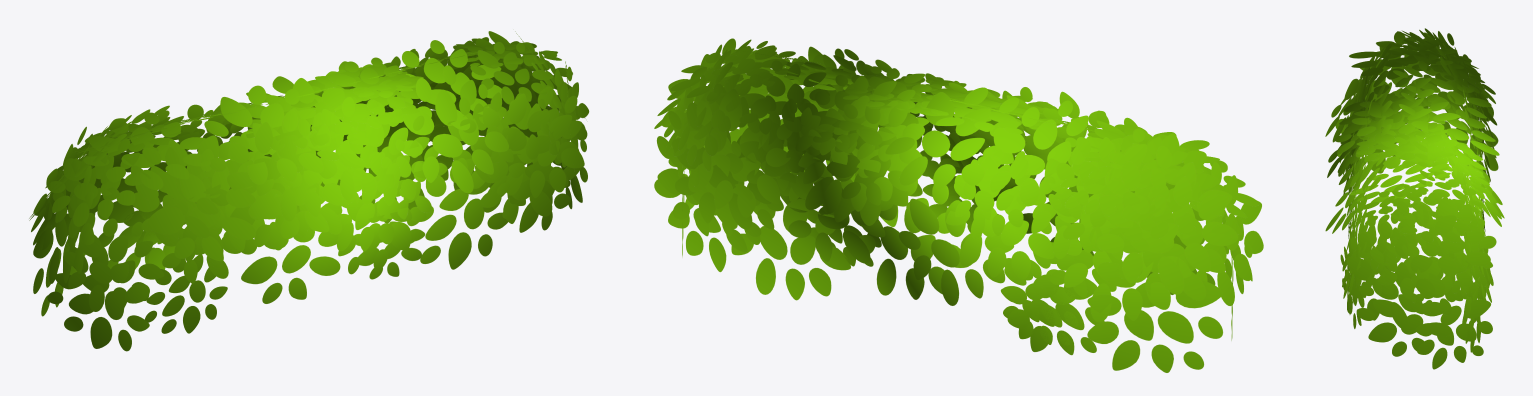
Rendered from bush_a.glb.
3 views of the same model, side by side, from view 1: azimuth 30°, elevation 25°; view 2: azimuth 150°, elevation 25°; view 3: azimuth 270°, elevation 25° (orthographic). The views are drawn at different scales.
Bounding box in the file's own units: 1.9 × 0.7783 × 0.7238.
Materials: 1 (1 with a texture image).
